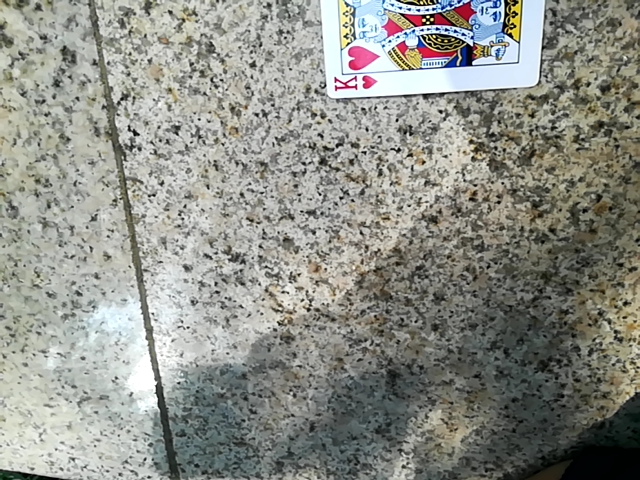hx k: (313, 0, 546, 103)
